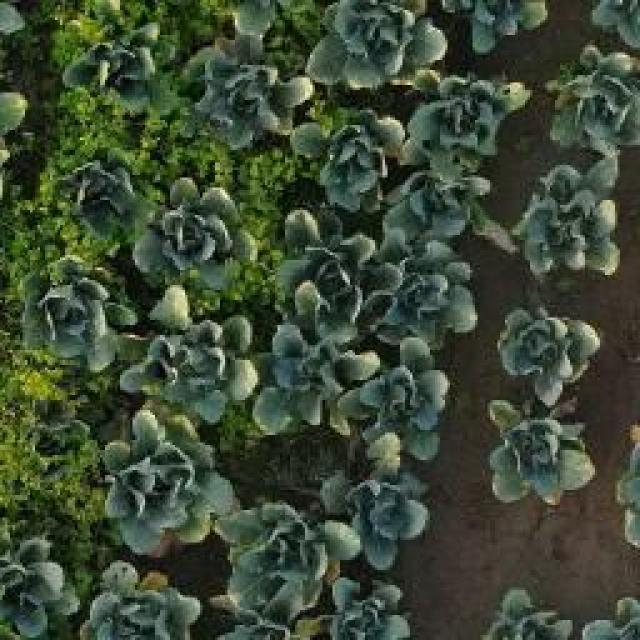cabbage: (94, 425, 233, 551), (120, 286, 257, 412), (397, 70, 541, 168), (178, 40, 312, 144), (222, 507, 349, 614), (253, 307, 365, 425), (131, 178, 256, 282), (379, 158, 512, 255), (363, 242, 482, 350), (326, 441, 426, 568), (306, 0, 451, 86), (19, 259, 129, 366), (522, 160, 620, 280), (265, 206, 375, 312), (490, 402, 592, 508), (547, 43, 640, 158), (362, 340, 453, 456), (59, 4, 158, 110), (497, 305, 602, 404), (85, 563, 195, 640), (313, 114, 401, 210), (0, 531, 73, 640), (46, 162, 142, 230), (326, 575, 409, 640)
